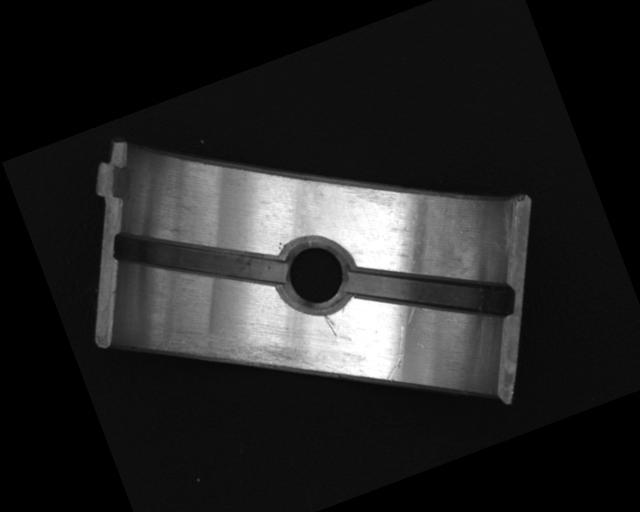gap: (107, 184, 290, 335), (346, 223, 517, 361)
hole: (268, 227, 363, 322)
nick: (371, 323, 420, 382), (323, 314, 339, 339)
scratch: (154, 289, 312, 416)
